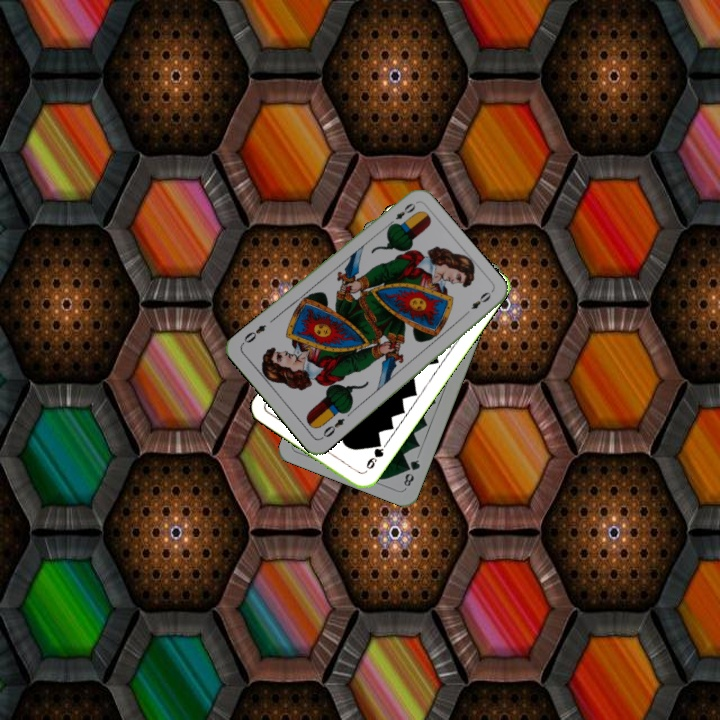EO: (384, 199, 418, 229), (317, 414, 347, 442)
G8: (400, 455, 423, 489)
G9: (362, 437, 386, 472)
